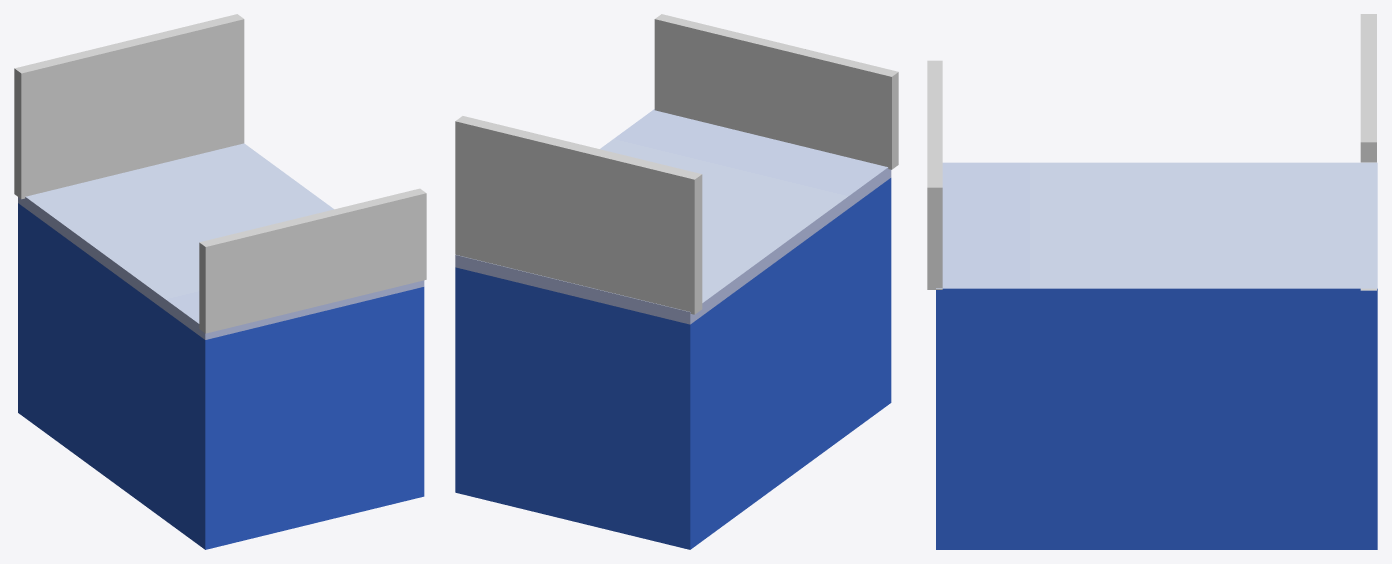
The model's file is extension1.fbx.
3 renders of one model, left to right at view 1: azimuth 30°, elevation 25°; view 2: azimuth 150°, elevation 25°; view 3: azimuth 270°, elevation 25°, orthographic. The views are drawn at different scales.
Visible parts, largest first — view 1: Cube.042, Cube.041, Cube.040; view 2: Cube.042, Cube.041, Cube.040; view 3: Cube.042, Cube.040, Cube.041.
Part boxes in pixels (box(x1,y1,x2,y2)): Cube.042: box(18, 143, 424, 549); Cube.041: box(14, 14, 244, 199); Cube.040: box(199, 188, 426, 333); Cube.042: box(455, 109, 891, 549); Cube.041: box(455, 116, 702, 314); Cube.040: box(654, 14, 898, 169); Cube.042: box(936, 162, 1377, 549); Cube.040: box(927, 60, 942, 289); Cube.041: box(1360, 14, 1376, 290).
Size of the model in its own units: 11.11 by 16.46 by 16.48.
